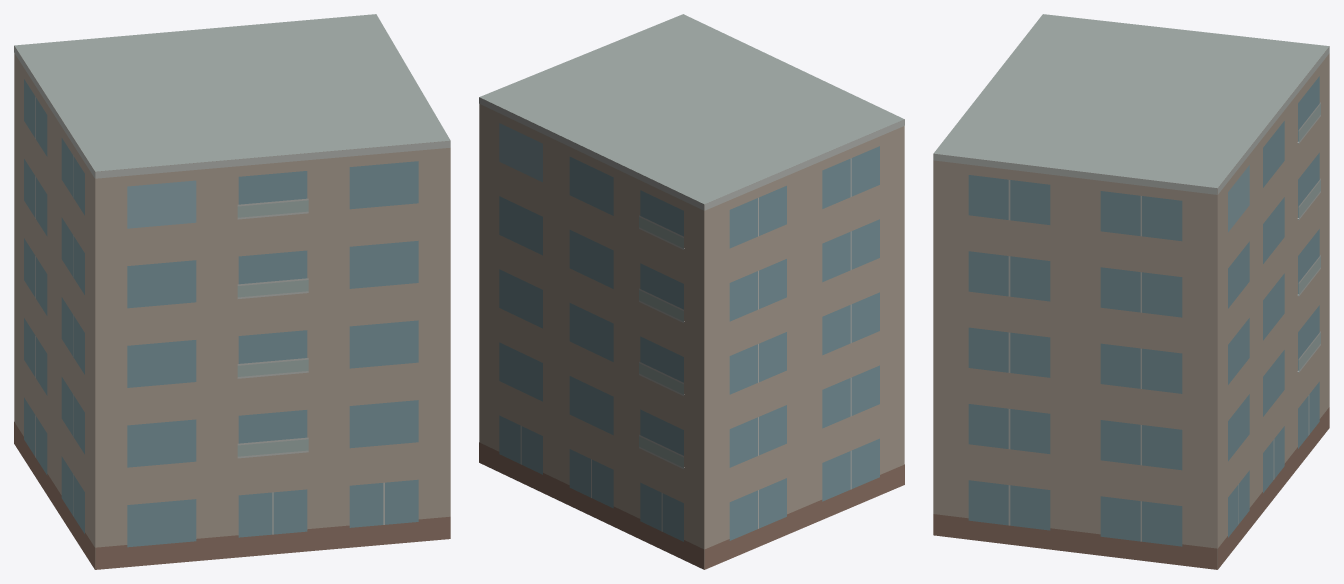
File: survey-upis-32871709.glb
3 views of the same model, side by side, from view 1: azimuth 30°, elevation 25°; view 2: azimuth 150°, elevation 25°; view 3: azimuth 270°, elevation 25° (orthographic). The views are drawn at different scales.
Visible parts, largest first — view 1: survey-upis-32871709.tmp; view 2: survey-upis-32871709.tmp; view 3: survey-upis-32871709.tmp.
Part boxes in pixels (x1,y1,x2,y2): survey-upis-32871709.tmp: (14, 14, 450, 569); survey-upis-32871709.tmp: (479, 14, 904, 569); survey-upis-32871709.tmp: (933, 14, 1329, 569).
Bounding box in the file's own units: 13.42 × 13.7 × 12.9.
